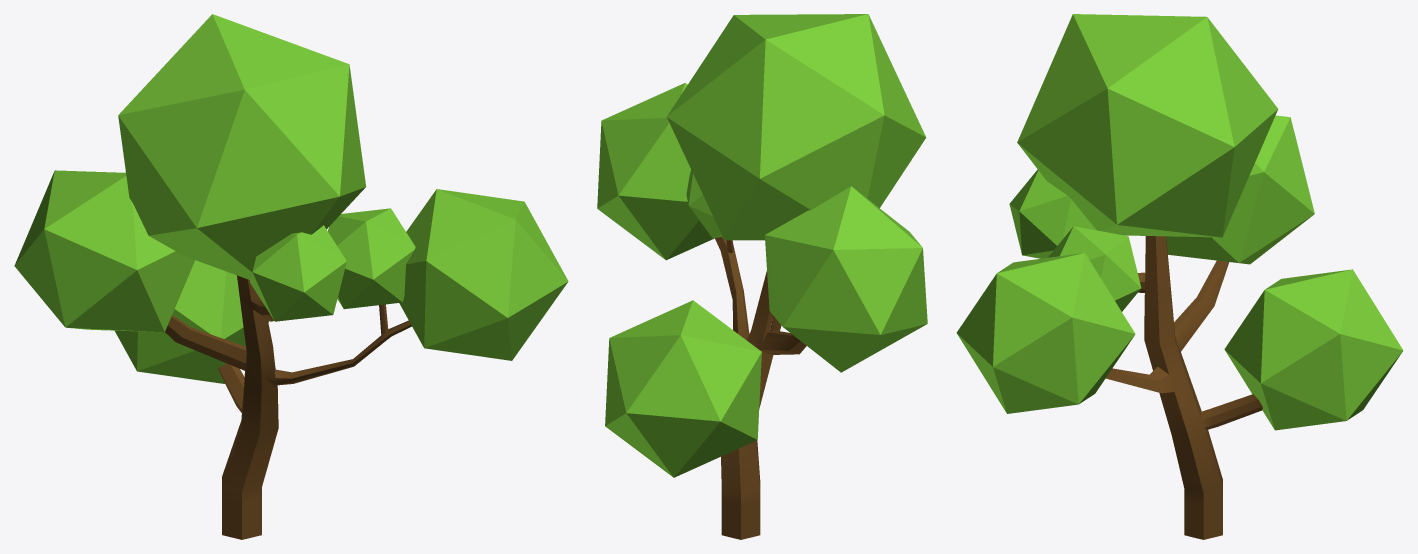
File: Tree2.fbx
3 views of the same model, side by side, from view 1: azimuth 30°, elevation 25°; view 2: azimuth 150°, elevation 25°; view 3: azimuth 270°, elevation 25° (orthographic). The views are drawn at different scales.
Parts seen in each view (by area): view 1: Platonic, Platonic_5_2, Platonic_1, Tree, Platonic_5, Platonic_4, Platonic_4_2; view 2: Platonic, Platonic_1, Platonic_5, Platonic_5_2, Tree, Platonic_4_2; view 3: Platonic, Platonic_5_2, Platonic_5, Tree, Platonic_1, Platonic_4, Platonic_4_2.
Boxes of the visible parts, <box> form: Platonic: <box>118,14,366,279</box>; Platonic_5_2: <box>399,189,568,360</box>; Platonic_1: <box>14,170,194,332</box>; Tree: <box>165,275,411,539</box>; Platonic_5: <box>115,260,269,383</box>; Platonic_4: <box>250,225,346,321</box>; Platonic_4_2: <box>328,208,415,309</box>; Platonic: <box>667,14,926,240</box>; Platonic_1: <box>764,186,927,372</box>; Platonic_5: <box>605,300,761,477</box>; Platonic_5_2: <box>597,83,714,260</box>; Tree: <box>715,236,806,539</box>; Platonic_4_2: <box>686,170,722,238</box>; Platonic: <box>1017,14,1277,237</box>; Platonic_5_2: <box>956,253,1135,413</box>; Platonic_5: <box>1224,269,1403,430</box>; Tree: <box>1105,236,1262,539</box>; Platonic_1: <box>1166,115,1314,264</box>; Platonic_4: <box>1009,169,1096,258</box>; Platonic_4_2: <box>1048,226,1141,311</box>.
Size of the model in its own units: 798 by 968 by 783.
